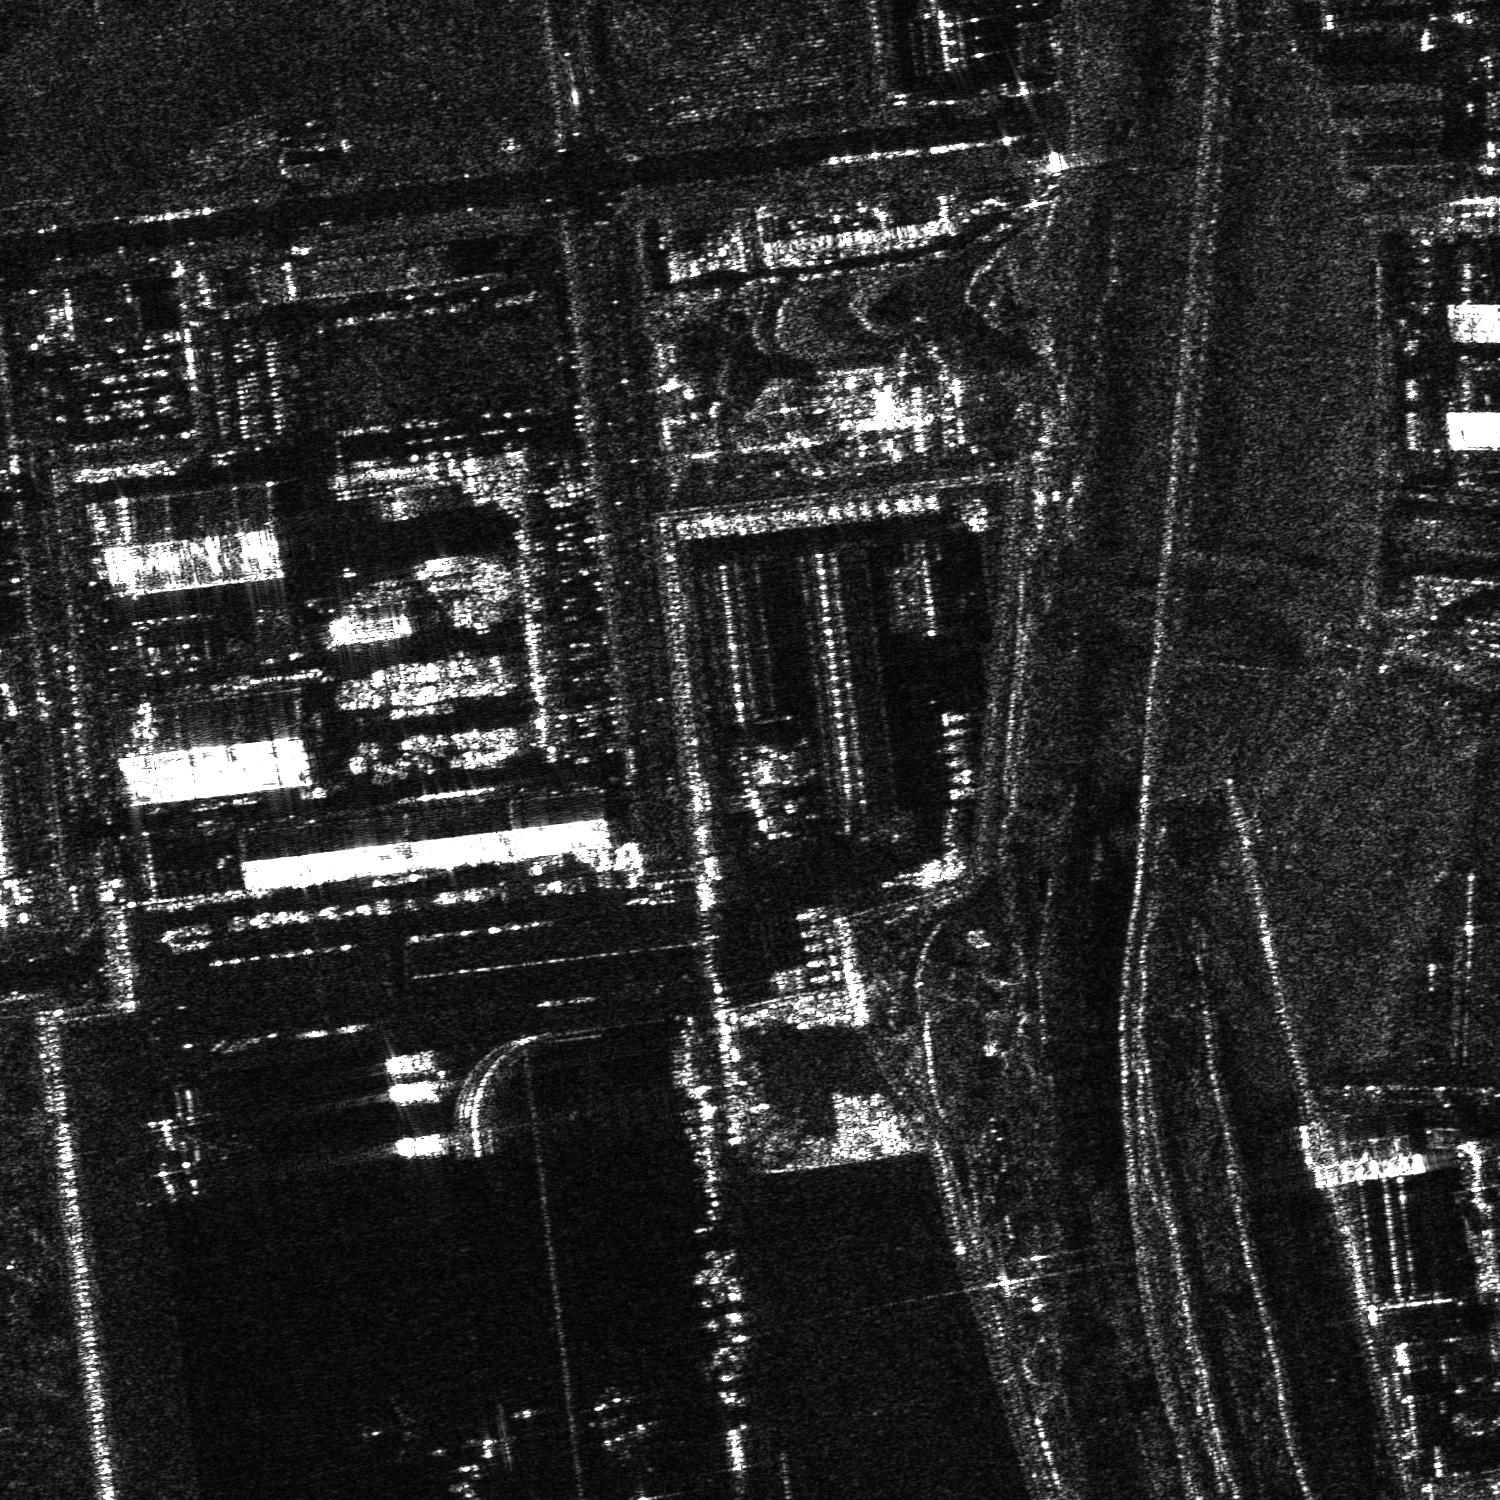Boeing787: (352, 1391, 438, 1468)
other: (115, 1104, 253, 1203)
